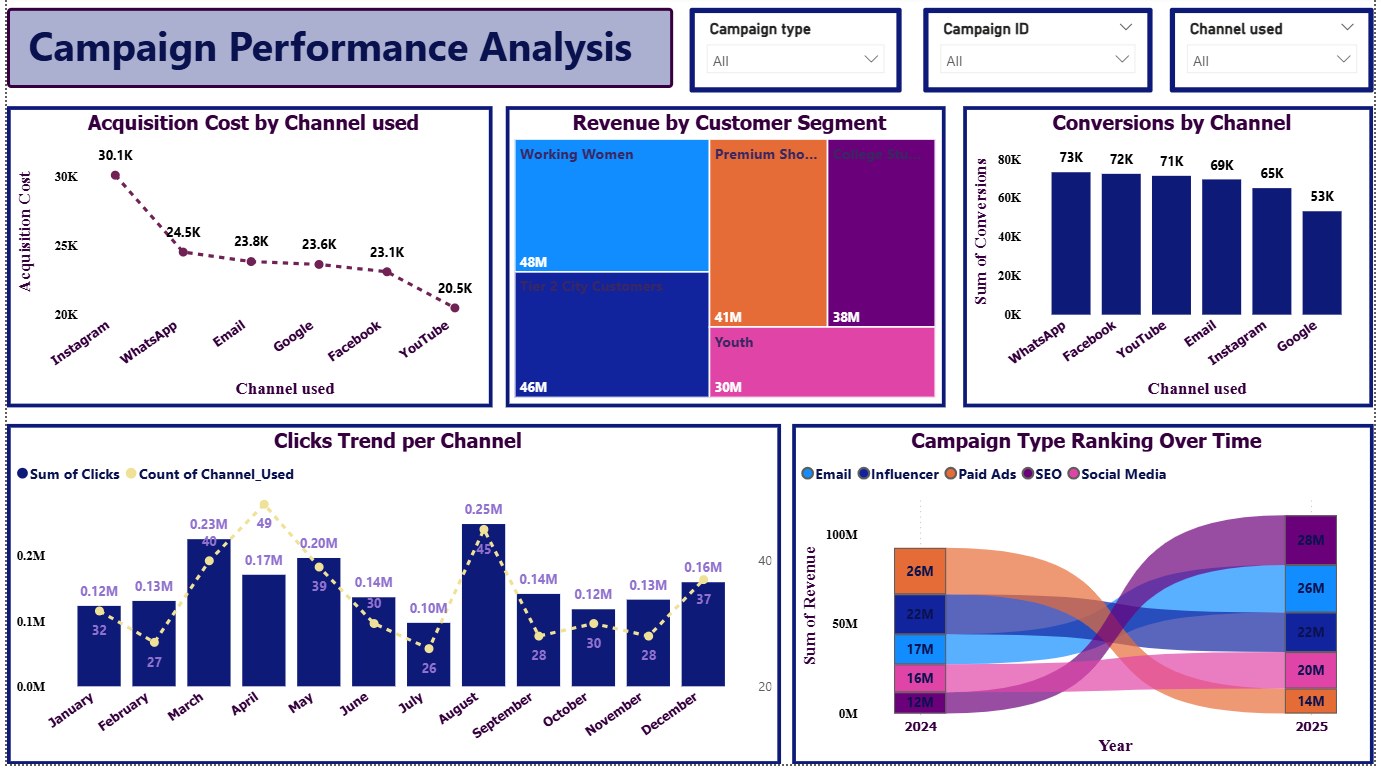

Layout of this report page (visuals, bound fields, positions):
{"tool":"powerbi","page":{"name":"Page 2","canvas":[1280,720],"ordinal":1},"visuals":[{"type":"ribbonChart","title":"Campaign Type Ranking Over Time","fields":{"Series":["mediacampaign campaign_data.Campaign_Type"],"Y":["Sum(mediacampaign campaign_data.Revenue)"],"Category":["mediacampaign campaign_data.Date.Variation.Date Hierarchy.Year"]},"box":[735.4,401.5,544.2,319.2],"z":0},{"type":"columnChart","title":"Conversions by Channel","fields":{"Category":["mediacampaign campaign_data.Channel_Used"],"Y":["Sum(mediacampaign campaign_data.Conversions)"]},"box":[895.7,104.4,383.9,282.4],"z":1000},{"type":"lineClusteredColumnComboChart","title":"Clicks Trend per Channel","fields":{"Category":["mediacampaign campaign_data.Date.Variation.Date Hierarchy.Month"],"Y":["Sum(mediacampaign campaign_data.Clicks)"],"Y2":["CountNonNull(mediacampaign campaign_data.Channel_Used)"]},"box":[0,401.5,725.1,319.2],"z":2000},{"type":"textbox","box":[0,11.8,623.6,75],"z":3000},{"type":"treemap","title":" Revenue by Customer Segment","fields":{"Group":["mediacampaign campaign_data.Customer_Segment"],"Values":["Sum(mediacampaign campaign_data.Revenue)"]},"box":[467.7,104.4,411.8,282.4],"z":4000},{"type":"lineChart","fields":{"Category":["mediacampaign campaign_data.Channel_Used"],"Y":["Sum(mediacampaign campaign_data.Acquisition_Cost)"]},"box":[0,104.4,454.5,282.4],"z":5000},{"type":"slicer","fields":{"Values":["mediacampaign campaign_summary.Campaign_Type"]},"box":[639.8,11.8,198.6,79.4],"z":6000},{"type":"slicer","fields":{"Values":["mediacampaign campaign_data.Campaign_ID"]},"box":[857.5,11.8,214.7,79.4],"z":7000},{"type":"slicer","fields":{"Values":["mediacampaign campaign_data.Channel_Used"]},"box":[1088.4,11.8,191.2,79.4],"z":8000}]}

Visuals, with their boxes in screenshot pixels (x1, y1, x2, y2), scaled from the page's 1280x720 canvas onto the 1381x772 screenshot:
"Campaign Type Ranking Over Time" ribbonChart: crop(793, 430, 1380, 771)
"Conversions by Channel" columnChart: crop(966, 112, 1380, 415)
"Clicks Trend per Channel" lineClusteredColumnComboChart: crop(0, 430, 782, 771)
textbox: crop(0, 13, 673, 93)
" Revenue by Customer Segment" treemap: crop(505, 112, 949, 415)
lineChart - mediacampaign campaign_data.Channel_Used x Sum(mediacampaign campaign_data.Acquisition_Cost): crop(0, 112, 490, 415)
slicer - mediacampaign campaign_summary.Campaign_Type: crop(690, 13, 905, 98)
slicer - mediacampaign campaign_data.Campaign_ID: crop(925, 13, 1157, 98)
slicer - mediacampaign campaign_data.Channel_Used: crop(1174, 13, 1380, 98)
